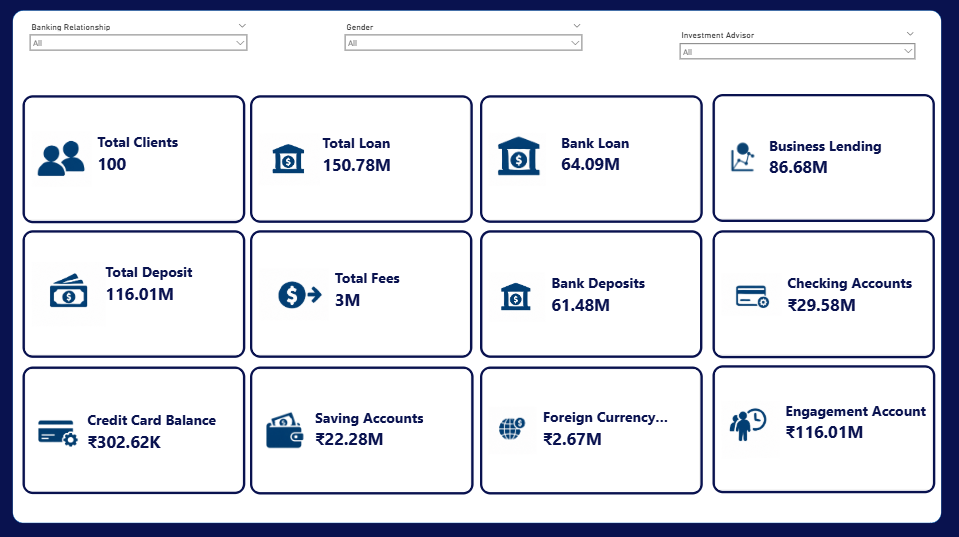

The dashboard page shown, as its layout file describes it:
{"tool":"powerbi","page":{"name":"SUMMARY","canvas":[1920,1080],"ordinal":3},"visuals":[{"type":"shape","box":[26,22,1858,1026],"z":1000},{"type":"cardVisual","fields":{"Data":["Banking_Data.Total Clients"]},"box":[44.2,191.4,445.4,255.8],"z":2000},{"type":"cardVisual","fields":{"Data":["Banking_Data.Total Loan"]},"box":[500.6,191.4,445.4,255],"z":3000},{"type":"cardVisual","fields":{"Data":["Banking_Data.Bank Loan"]},"box":[960.7,191.4,445.4,255],"z":4000},{"type":"cardVisual","fields":{"Data":["Banking_Data.Business Lending"]},"box":[1424.5,189.6,445,255.8],"z":5000},{"type":"cardVisual","fields":{"Data":["Banking_Data.Total Deposit"]},"box":[44.2,462,445.4,255],"z":6000},{"type":"cardVisual","fields":{"Data":["Banking_Data.Total Fees"]},"box":[500.6,462,445,255],"z":7000},{"type":"cardVisual","title":"Bank Deposit","fields":{"Data":["Sum(Banking_Data.Bank Deposits)"]},"box":[960.7,462,445,255],"z":8000},{"type":"cardVisual","fields":{"Data":["Sum(Banking_Data.Checking Accounts)"]},"box":[1424.5,462,445,255.8],"z":9000},{"type":"cardVisual","fields":{"Data":["Banking_Data.Credit Card Balance"]},"box":[44.2,734.4,445.4,255],"z":10000},{"type":"cardVisual","fields":{"Data":["Sum(Banking_Data.Saving Accounts)"]},"box":[498.8,734.4,447.2,255.8],"z":11000},{"type":"cardVisual","fields":{"Data":["Sum(Banking_Data.Foreign Currency Account)"]},"box":[960.7,734.4,445.4,255.8],"z":12000},{"type":"cardVisual","fields":{"Data":["Banking_Data.Engagement Account"]},"box":[1424.5,732.5,445.4,255.8],"z":13000},{"type":"slicer","fields":{"Values":["Banking_Data.Banking Relationship"]},"box":[54,46,444.5,91.7],"z":14000},{"type":"slicer","fields":{"Values":["Banking_Data.Gender"]},"box":[684.7,46,484.1,92],"z":15000},{"type":"slicer","fields":{"Values":["Banking_Data.Investment Advisor"]},"box":[1356,62,480.4,92],"z":16000}]}

Visuals, with their boxes in screenshot pixels (x1, y1, x2, y2), scaled from the page's 1920x1080 canvas onto the 959x537 screenshot:
shape: x1=13, y1=11, x2=941, y2=521
cardVisual - Banking_Data.Total Clients: x1=22, y1=95, x2=245, y2=222
cardVisual - Banking_Data.Total Loan: x1=250, y1=95, x2=473, y2=222
cardVisual - Banking_Data.Bank Loan: x1=480, y1=95, x2=702, y2=222
cardVisual - Banking_Data.Business Lending: x1=712, y1=94, x2=934, y2=221
cardVisual - Banking_Data.Total Deposit: x1=22, y1=230, x2=245, y2=357
cardVisual - Banking_Data.Total Fees: x1=250, y1=230, x2=472, y2=357
"Bank Deposit" cardVisual: x1=480, y1=230, x2=702, y2=357
cardVisual - Sum(Banking_Data.Checking Accounts): x1=712, y1=230, x2=934, y2=357
cardVisual - Banking_Data.Credit Card Balance: x1=22, y1=365, x2=245, y2=492
cardVisual - Sum(Banking_Data.Saving Accounts): x1=249, y1=365, x2=473, y2=492
cardVisual - Sum(Banking_Data.Foreign Currency Account): x1=480, y1=365, x2=702, y2=492
cardVisual - Banking_Data.Engagement Account: x1=712, y1=364, x2=934, y2=491
slicer - Banking_Data.Banking Relationship: x1=27, y1=23, x2=249, y2=68
slicer - Banking_Data.Gender: x1=342, y1=23, x2=584, y2=69
slicer - Banking_Data.Investment Advisor: x1=677, y1=31, x2=917, y2=77
